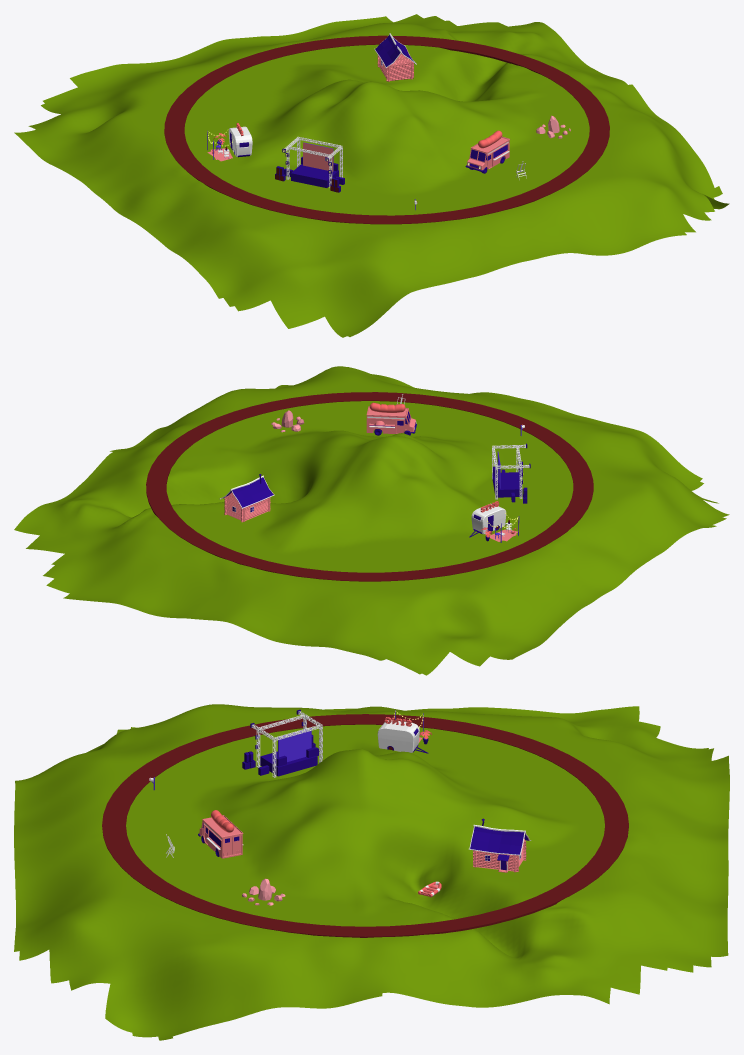
File: island.glb
The picture shows the model from 3 angles, top to bottom: view 1: azimuth 30°, elevation 25°; view 2: azimuth 150°, elevation 25°; view 3: azimuth 270°, elevation 25°; orthographic projection. The views are drawn at different scales.
Parts seen in each view (by area): view 1: Landscape, Street, Cabin_shed, STAGEmodul_Cube, TRUCK_Cube.001, Philips_PM5544_(SECAM_variation), Camper1_Mesh.006; view 2: Landscape, Street, Cabin_shed, TRUCK_Cube.001, Camper1_Mesh.006, STAGEmodul_Cube; view 3: Landscape, Street, Cabin_shed, Camper1_Mesh.006, TRUCK_Cube.001, Philips_PM5544_(SECAM_variation), STAGEmodul_Cube.
Part boxes in pixels (<box>): Landscape: <box>14,14,729,337</box>; Street: <box>164,35,609,224</box>; Cabin_shed: <box>374,33,416,81</box>; STAGEmodul_Cube: <box>291,164,338,187</box>; TRUCK_Cube.001: <box>467,136,510,170</box>; Philips_PM5544_(SECAM_variation): <box>303,142,333,171</box>; Camper1_Mesh.006: <box>228,126,252,157</box>; Landscape: <box>14,366,729,675</box>; Street: <box>146,392,593,581</box>; Cabin_shed: <box>219,474,274,522</box>; TRUCK_Cube.001: <box>366,406,415,433</box>; Camper1_Mesh.006: <box>469,503,506,537</box>; STAGEmodul_Cube: <box>492,472,522,497</box>; Landscape: <box>14,704,729,1040</box>; Street: <box>102,714,628,937</box>; Cabin_shed: <box>468,818,531,872</box>; Camper1_Mesh.006: <box>377,720,428,753</box>; TRUCK_Cube.001: <box>199,815,243,858</box>; Philips_PM5544_(SECAM_variation): <box>278,728,311,761</box>; STAGEmodul_Cube: <box>260,751,317,776</box>.
Size of what is drawn, in the model's own units: 32.56 by 7.12 by 33.47.
